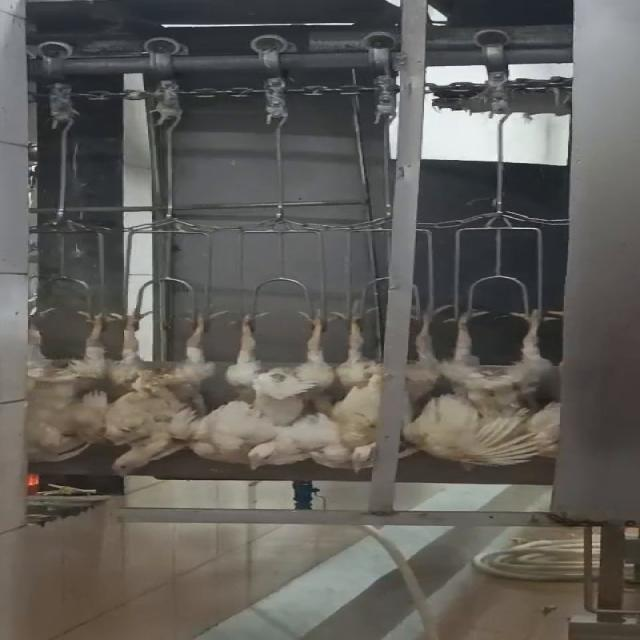chicken: (405, 304, 571, 472), (92, 306, 222, 478), (201, 310, 325, 473), (7, 304, 128, 470), (324, 316, 389, 475)
